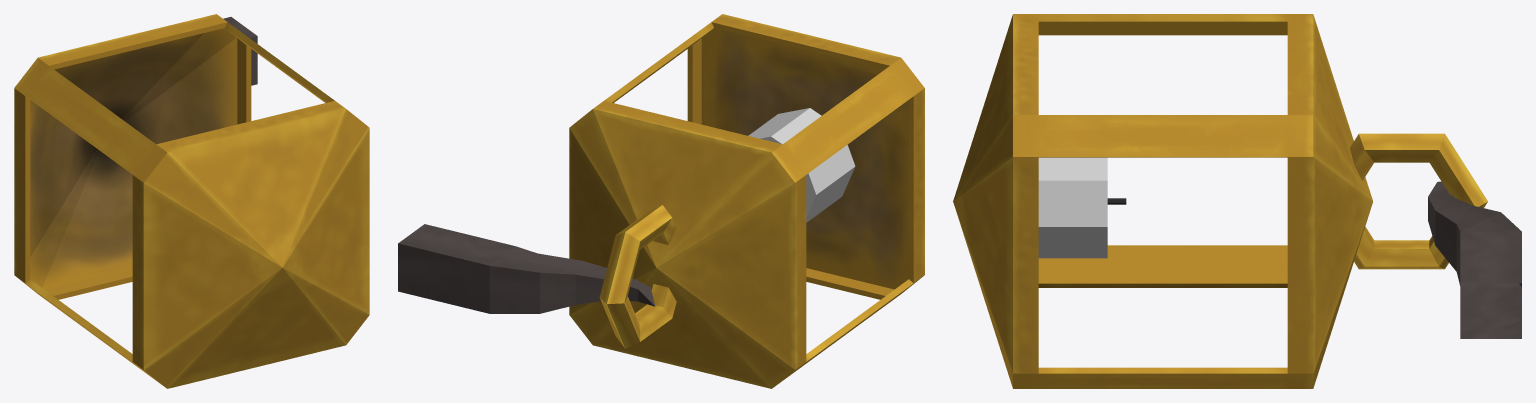
Rendered from lantern_hook.dae.
3 renders of one model, left to right at view 1: azimuth 30°, elevation 25°; view 2: azimuth 150°, elevation 25°; view 3: azimuth 270°, elevation 25°, orthographic. The views are drawn at different scales.
Parts seen in each view (by area): view 1: Torus_008, Cube_001; view 2: Torus_008, Cube_001, Torus_009, Cylinder_004; view 3: Torus_008, Cube_001, Torus_009, Cylinder_004.
Part boxes in pixels (x1=…): Torus_008: x1=14, y1=14, x2=369, y2=388; Cube_001: x1=223, y1=17, x2=257, y2=85; Torus_008: x1=569, y1=14, x2=924, y2=388; Cube_001: x1=398, y1=224, x2=655, y2=313; Torus_009: x1=599, y1=205, x2=676, y2=348; Cylinder_004: x1=748, y1=108, x2=855, y2=222; Torus_008: x1=953, y1=14, x2=1372, y2=388; Cube_001: x1=1428, y1=181, x2=1521, y2=338; Torus_009: x1=1350, y1=133, x2=1487, y2=269; Cylinder_004: x1=1038, y1=157, x2=1126, y2=258.
Bounding box in the file's own units: 2.72 × 3.76 × 2.
3 materials, 1 textured.
